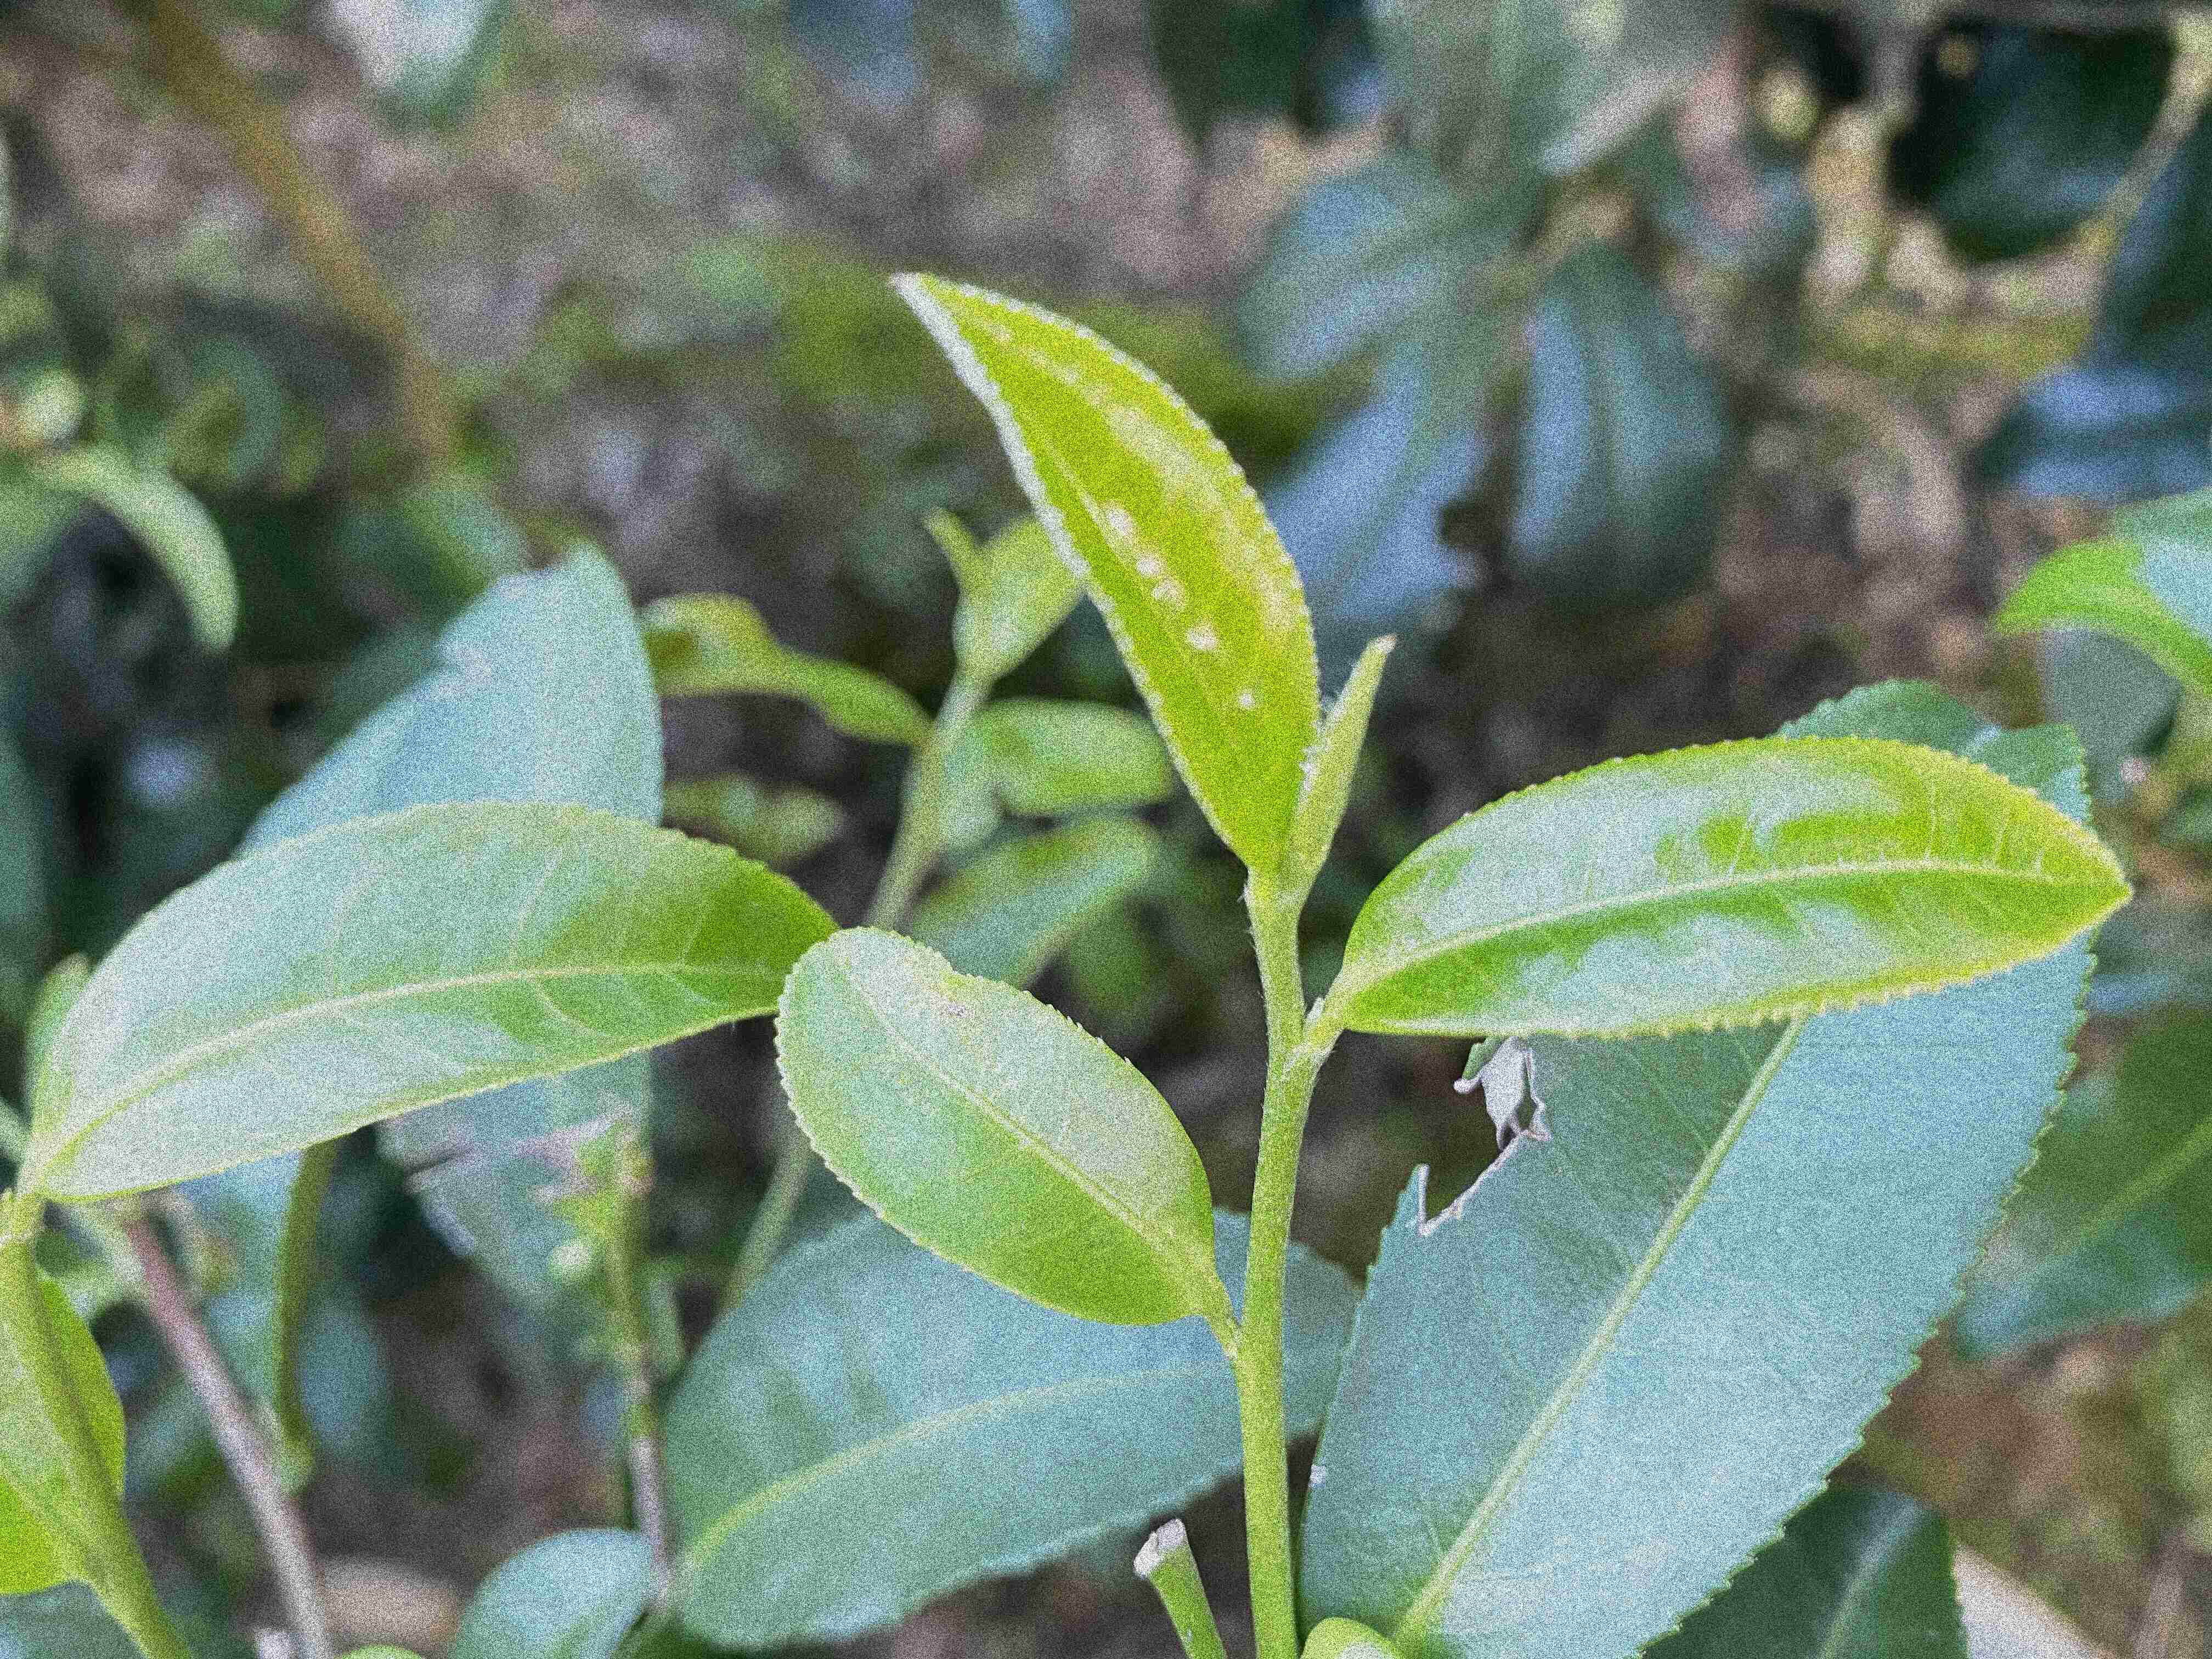chihuo_low: (1294, 676, 2104, 1656)
healthy: (26, 795, 840, 1206), (888, 268, 1325, 861), (1332, 730, 2135, 1039)
tanju_low: (775, 924, 1217, 1328)
